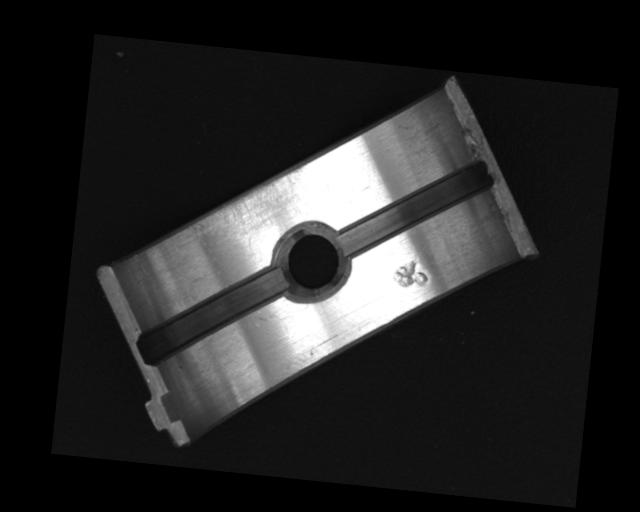bruise: (390, 254, 431, 291)
gap: (337, 146, 493, 271), (134, 253, 289, 375)
hole: (270, 219, 356, 306)
scratch: (181, 150, 308, 255)
